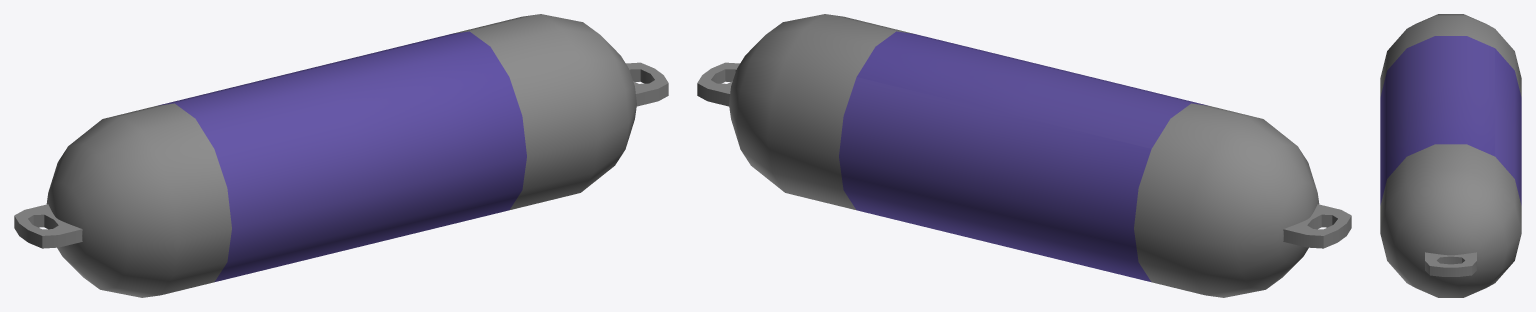
File: prop_21.FBX
The picture shows the model from 3 angles, left to right: view 1: azimuth 30°, elevation 25°; view 2: azimuth 150°, elevation 25°; view 3: azimuth 270°, elevation 25°; orthographic projection. The views are drawn at different scales.
Parts seen in each view (by area): view 1: prop_21; view 2: prop_21; view 3: prop_21.
Part boxes in pixels (bbox=[...]): prop_21: bbox=[14, 14, 668, 297]; prop_21: bbox=[697, 14, 1351, 297]; prop_21: bbox=[1380, 14, 1521, 297].
Size of the model in its own units: 42.42 by 10.61 by 10.88.
